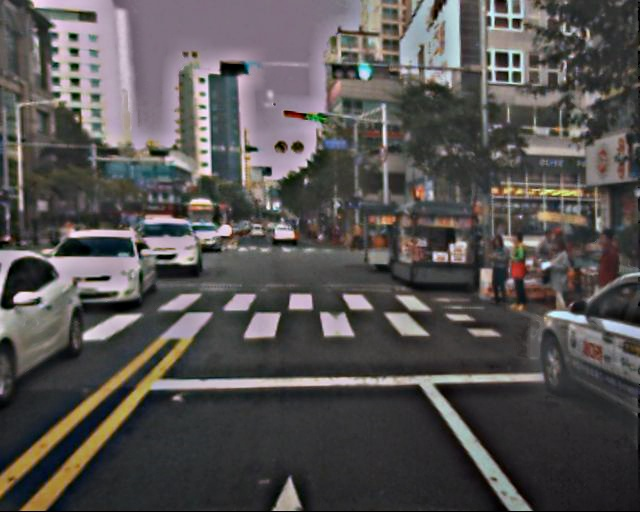person: (578, 231, 629, 342), (541, 239, 577, 321), (501, 234, 535, 312), (535, 227, 569, 301), (482, 236, 513, 310)
